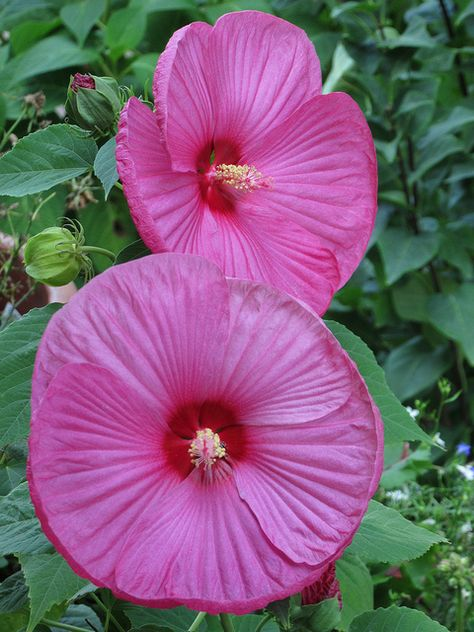Hibiscus: (28, 261, 386, 604), (95, 13, 380, 315)
